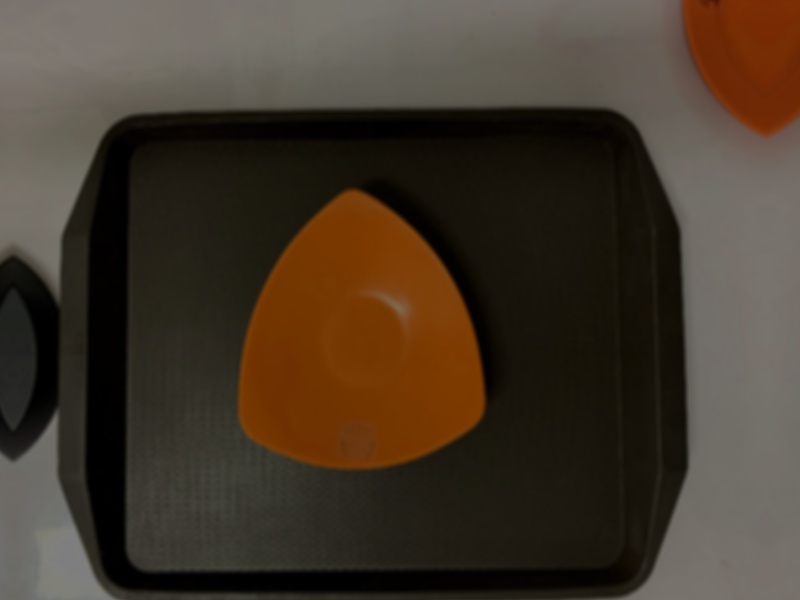dish11: (231, 181, 491, 476)
